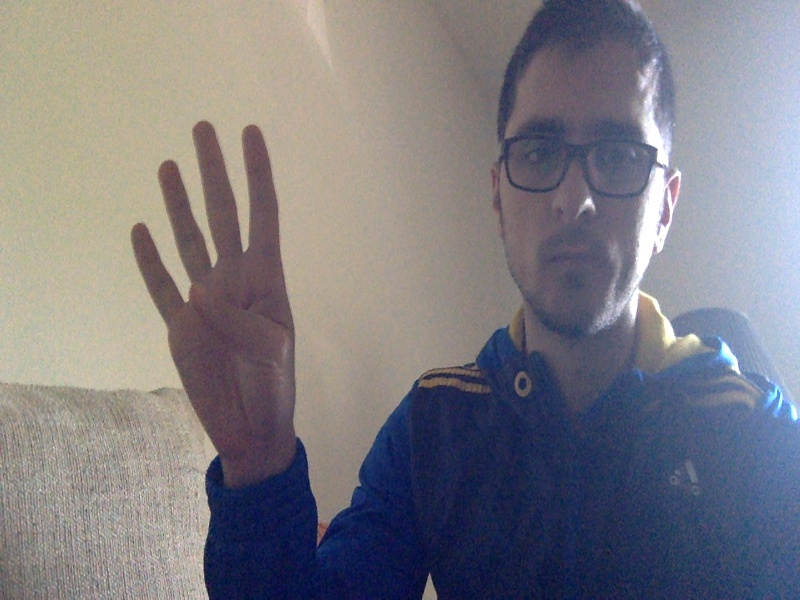4-hand: (127, 118, 296, 455)
